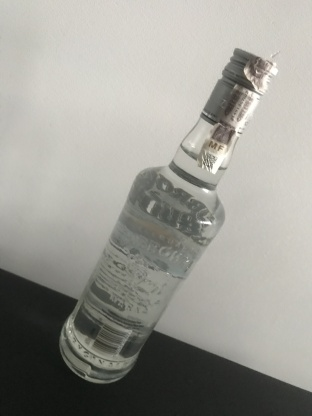nakretka: (198, 45, 280, 137)
